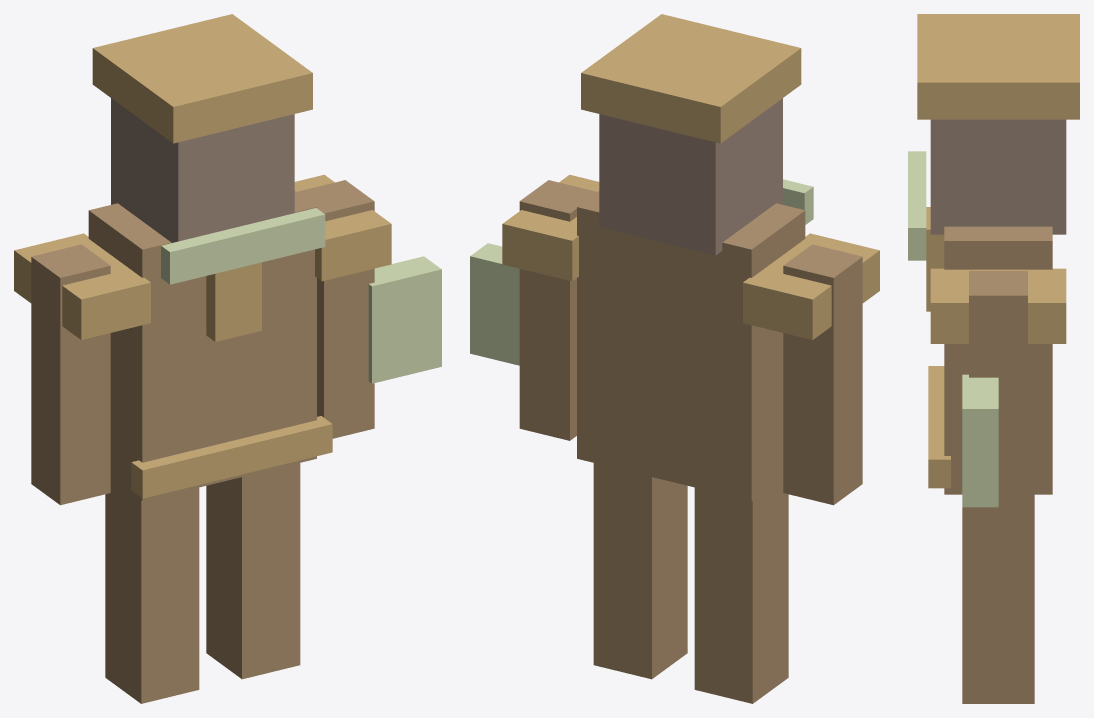
The model's file is 10_vale_gearmantle_watcher_near_archive.glb.
3 views of the same model, side by side, from view 1: azimuth 30°, elevation 25°; view 2: azimuth 150°, elevation 25°; view 3: azimuth 270°, elevation 25° (orthographic).
Visible parts, largest first — view 1: Vale Gearmantle, Watcher near Archive; view 2: Vale Gearmantle, Watcher near Archive; view 3: Vale Gearmantle, Watcher near Archive.
Part boxes in pixels (box(x1,y1,x2,y2)): Vale Gearmantle, Watcher near Archive: box(14, 14, 441, 703); Vale Gearmantle, Watcher near Archive: box(470, 14, 879, 703); Vale Gearmantle, Watcher near Archive: box(908, 14, 1079, 703).
Bounding box in the file's own units: 0.9715 × 1.5 × 0.3787.
